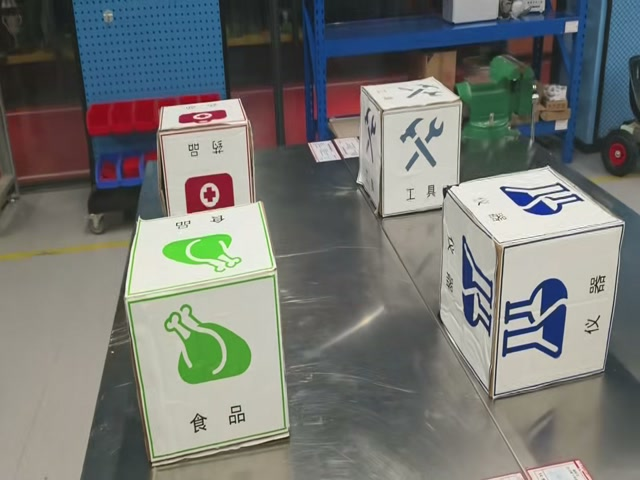Cube_food: (125, 203, 275, 305)
Cube_ins: (447, 168, 623, 245)
Cube_medicine: (157, 99, 249, 133)
Cube_tool: (361, 77, 458, 116)
